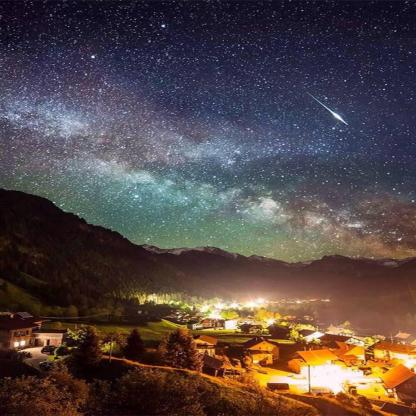other: (279, 356, 386, 395), (194, 293, 287, 334), (304, 89, 358, 133)
